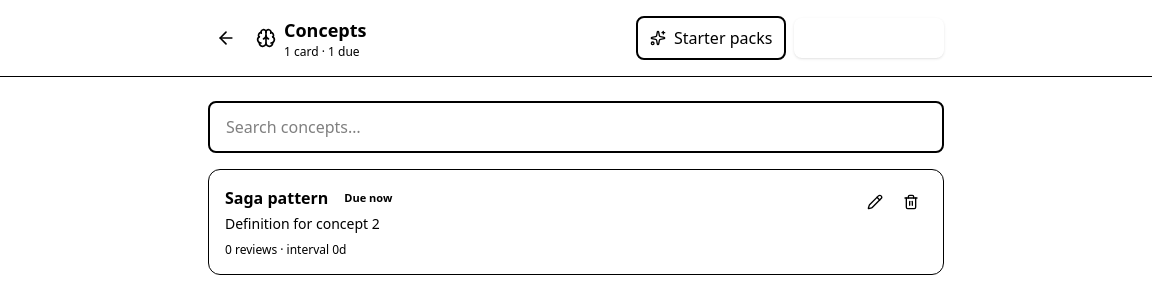
Test: ConceptsPage › shows a no-match message when nothing matches
The width and height of the screenshot is (1152, 292).
Type "zzz nonexistent" into the field labelled "Search concepts" at (576, 127), box 208,101 -> 944,153
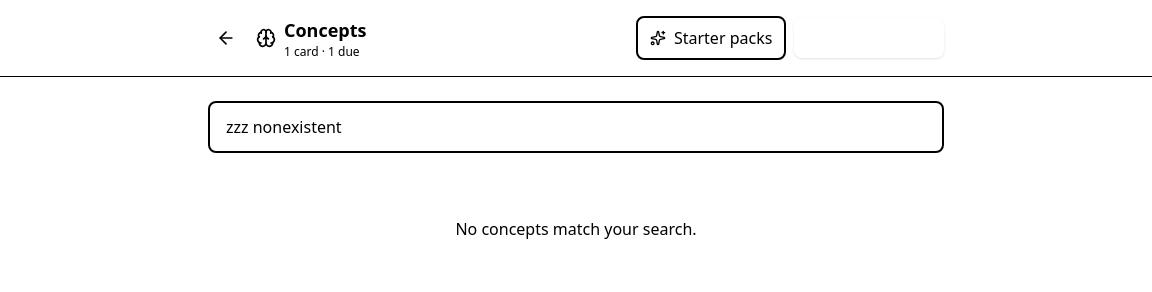
Check: the text "No concepts match your search." is shown, box 455,218 -> 696,240
Check: the heading "Saga pattern" is gone
